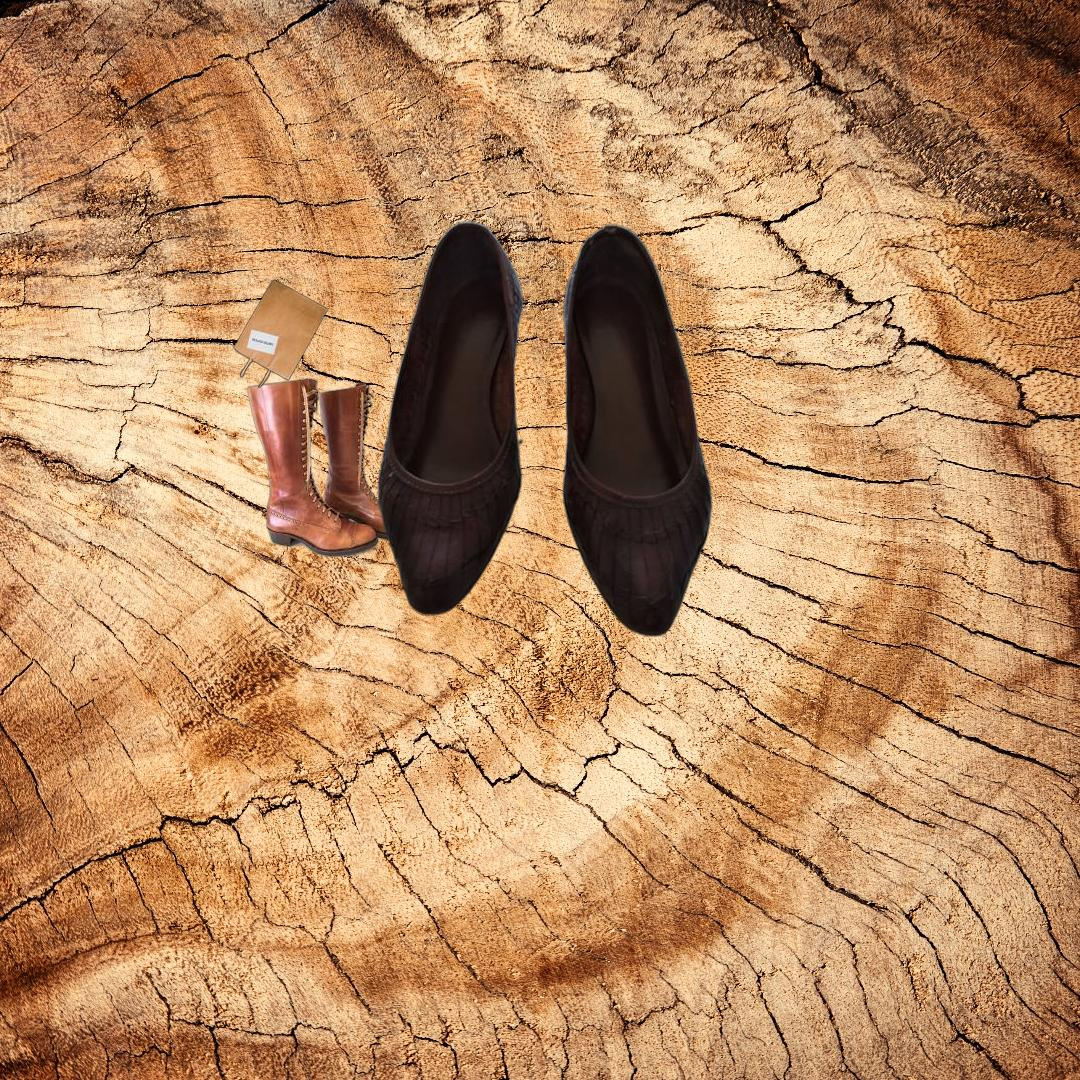paper-bag: (230, 278, 329, 391)
shoes: (376, 217, 715, 641), (245, 376, 424, 560)
